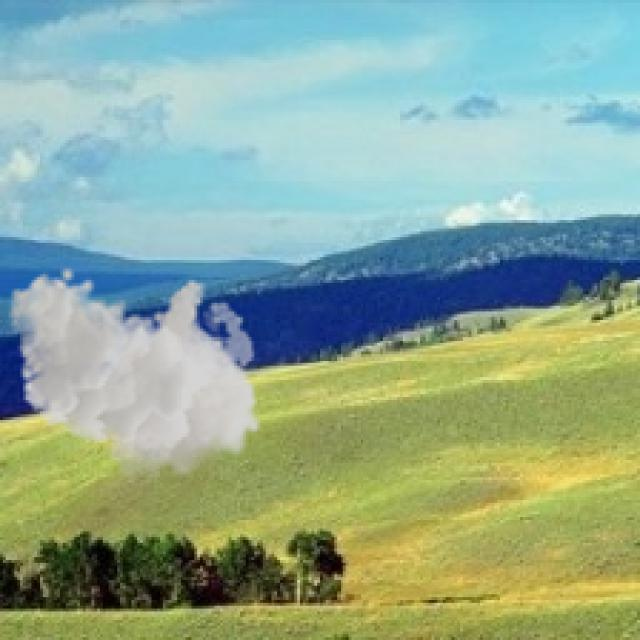smoke: (8, 266, 263, 486)
